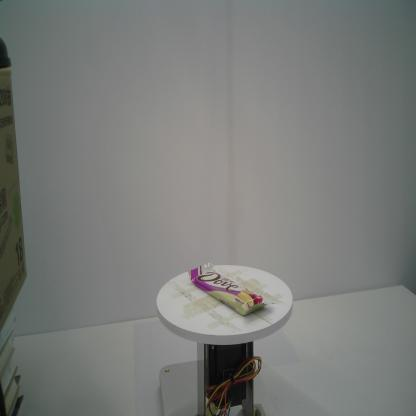Chocolate: (187, 261, 275, 317)
